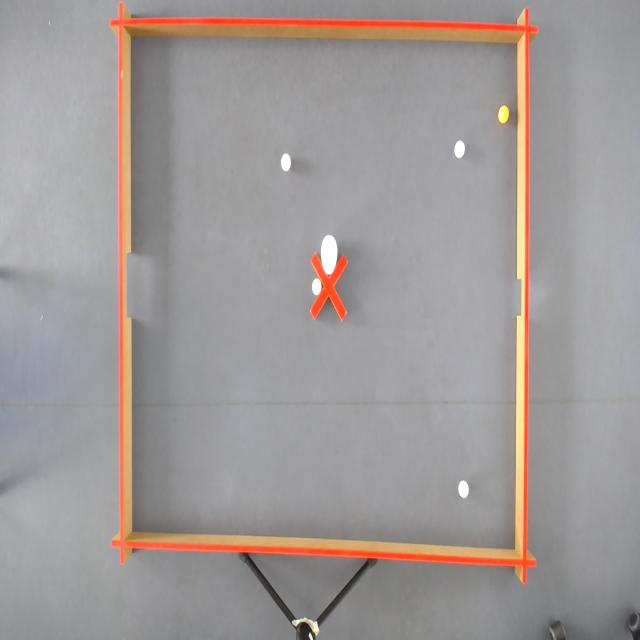cross: (310, 251, 350, 323)
egg: (319, 232, 340, 277)
orange_ball: (498, 103, 510, 126)
white_ball: (280, 150, 293, 173), (457, 478, 470, 500), (453, 138, 466, 160), (311, 276, 323, 298)
